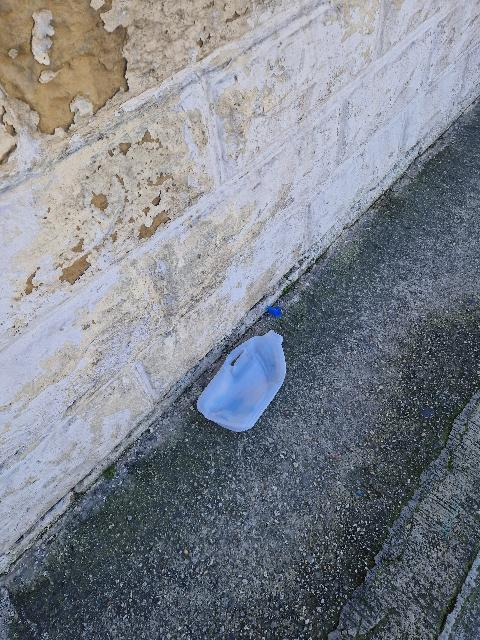Other: (197, 331, 286, 432)
